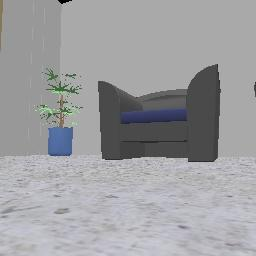fotoliu: (99, 64, 220, 161)
planta: (35, 68, 82, 155)
